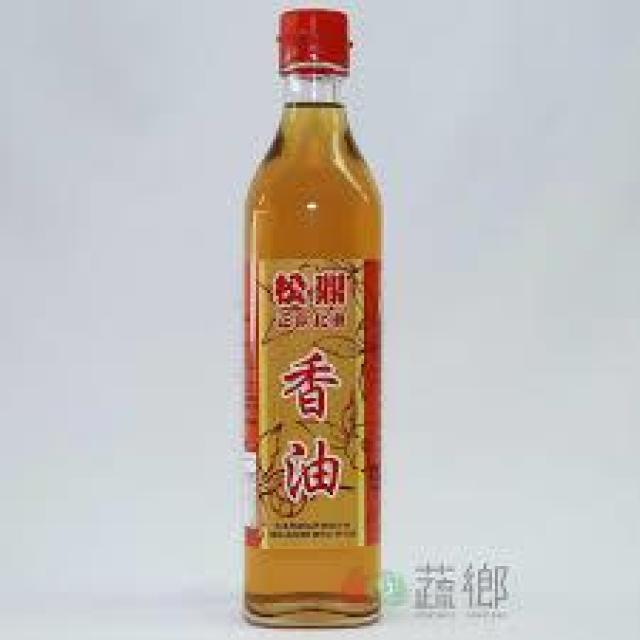inorganic: (242, 6, 384, 631)
